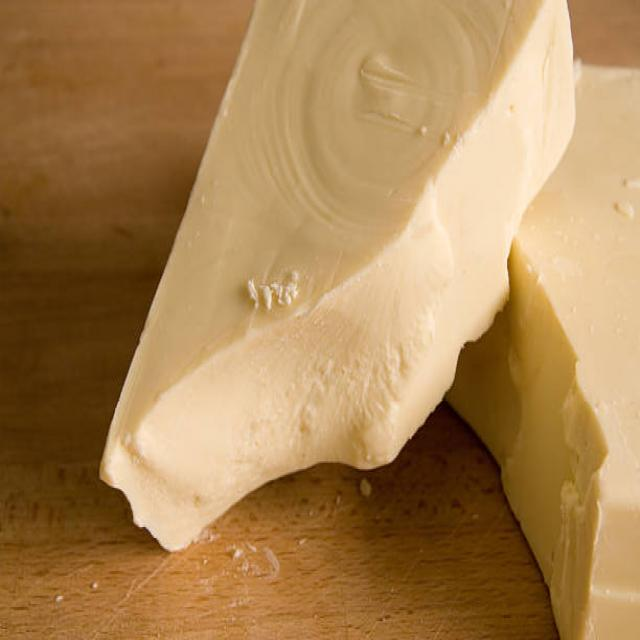Chocolate: (97, 0, 579, 555), (442, 59, 639, 640)
